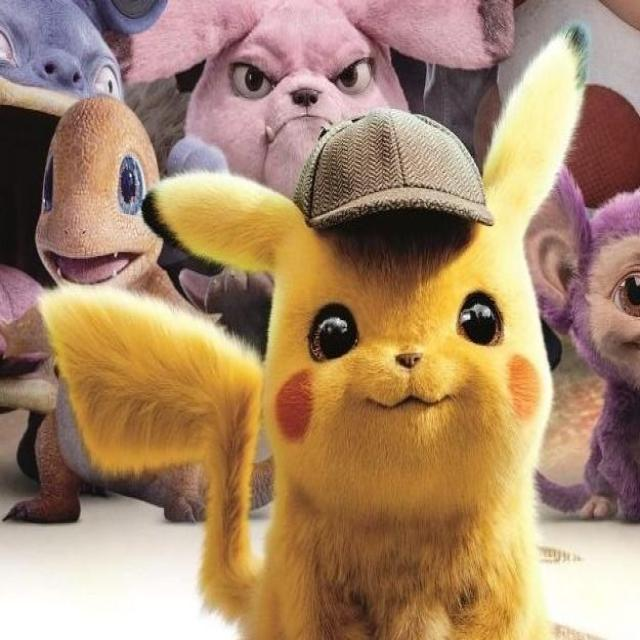pikachu: (41, 22, 592, 640)
